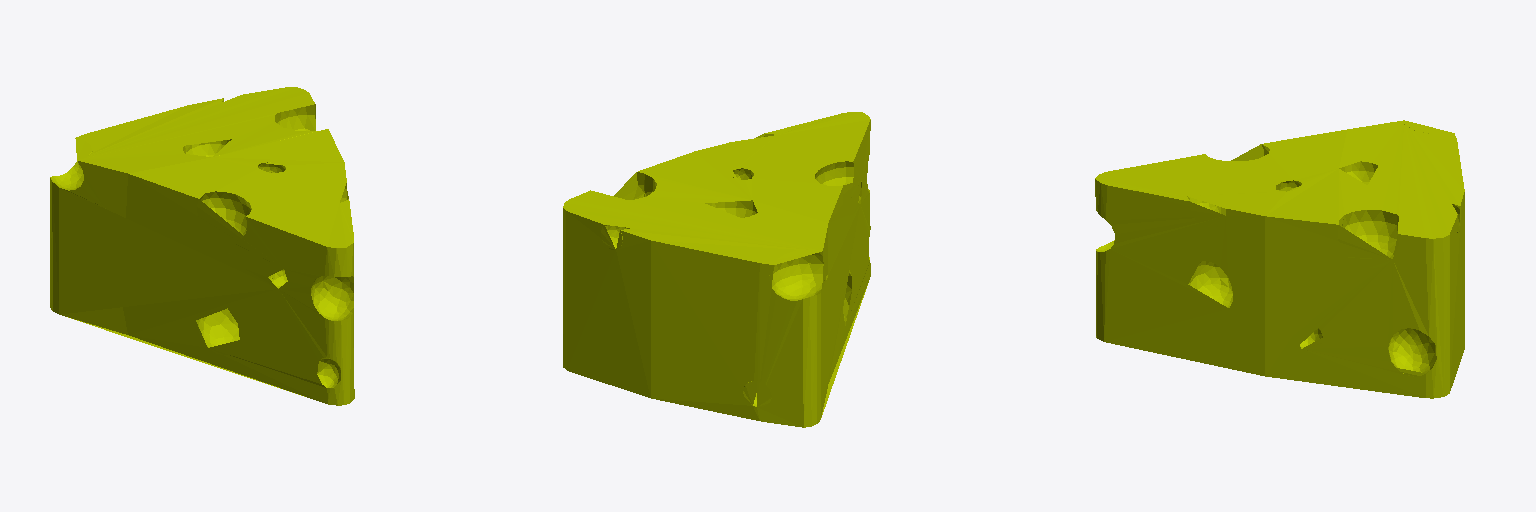
Rendered from cheese-radioactive.obj.
The picture shows the model from 3 angles: view 1: azimuth 30°, elevation 25°; view 2: azimuth 150°, elevation 25°; view 3: azimuth 270°, elevation 25°; orthographic projection.
Parts seen in each view (by area): view 1: cheese.002; view 2: cheese.002; view 3: cheese.002.
Part boxes in pixels (left/top/right/bottom): cheese.002: left=50, top=87, right=354, bottom=405; cheese.002: left=563, top=112, right=870, bottom=427; cheese.002: left=1095, top=120, right=1464, bottom=398.
Bounding box in the file's own units: 157 × 95.9 × 198.